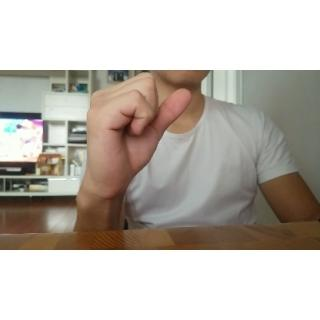WAW: (78, 70, 196, 216)
